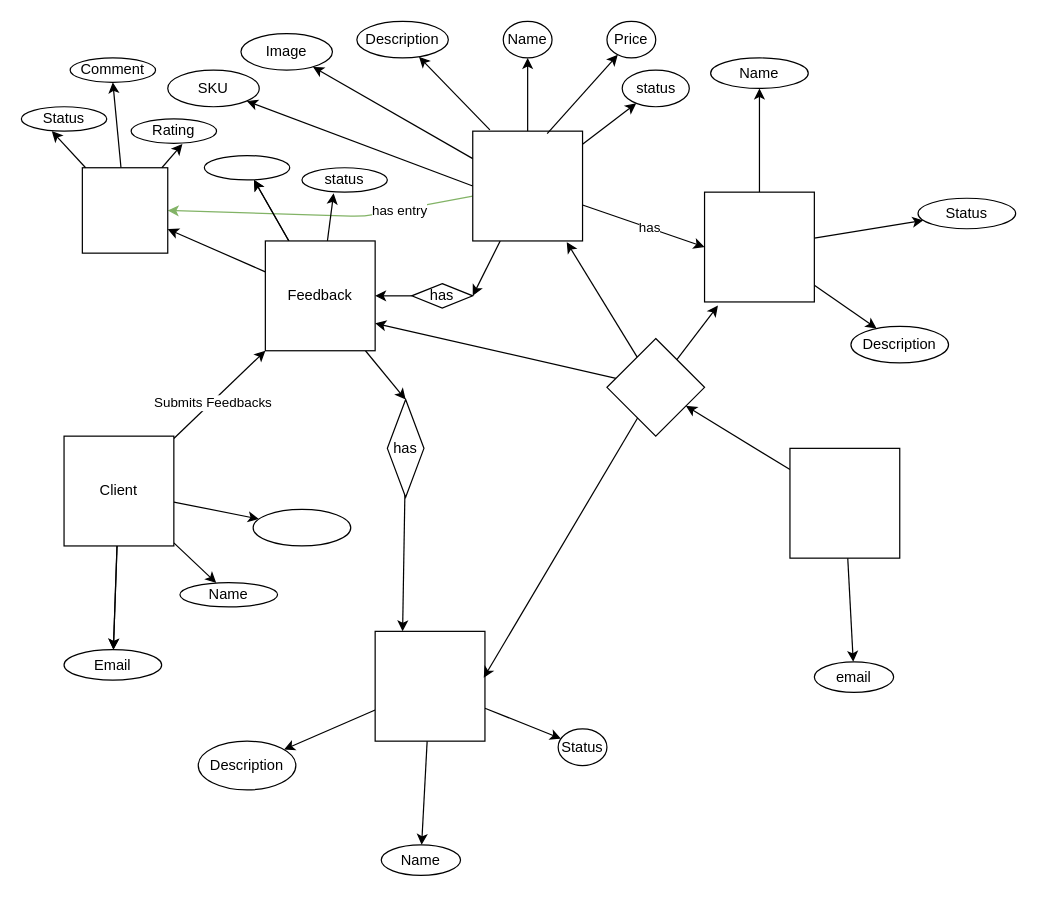
This 1037x897 diagram has some shape labels left out. The shapes that lost their labels are listed below. From the top down, each one's centre as x and y in pixels, then its label:
point 246,167: Token
point 527,185: Product
point 124,210: Feedback Entries
point 758,246: Product Category
point 655,386: Manage
point 844,502: Admininstrator
point 301,527: Phone
point 429,685: Feeback Category
